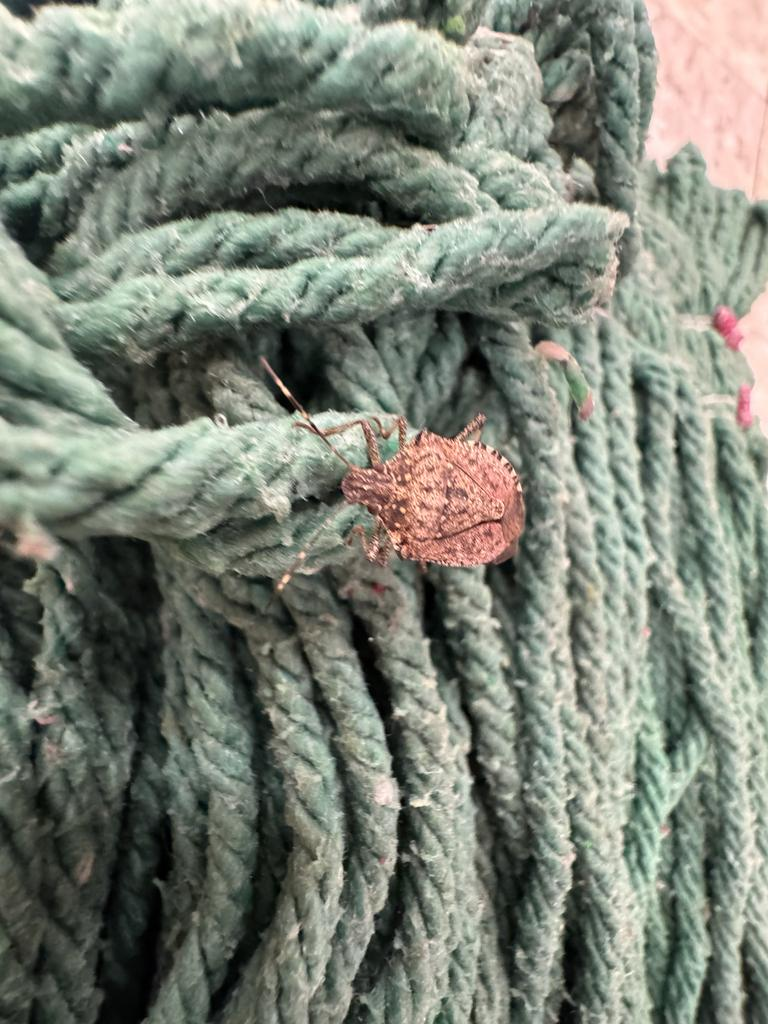stink_bugs: (241, 342, 559, 621)
